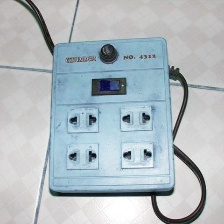three_eye_plug: (44, 33, 178, 197)
